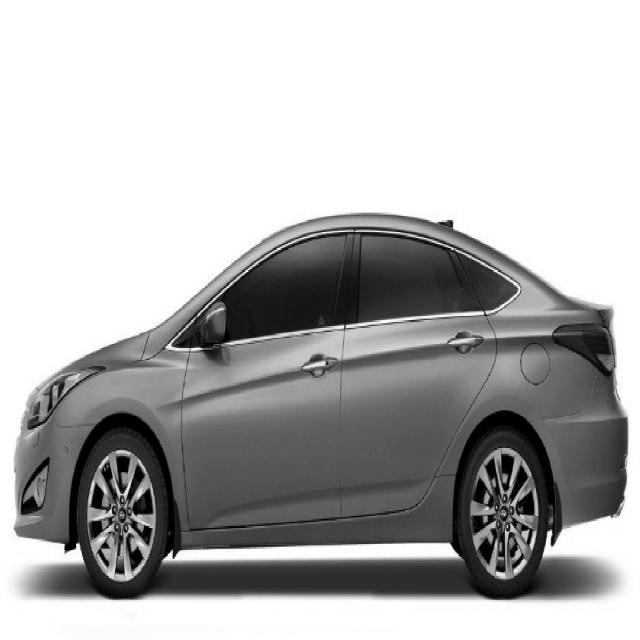car: (13, 210, 629, 600)
